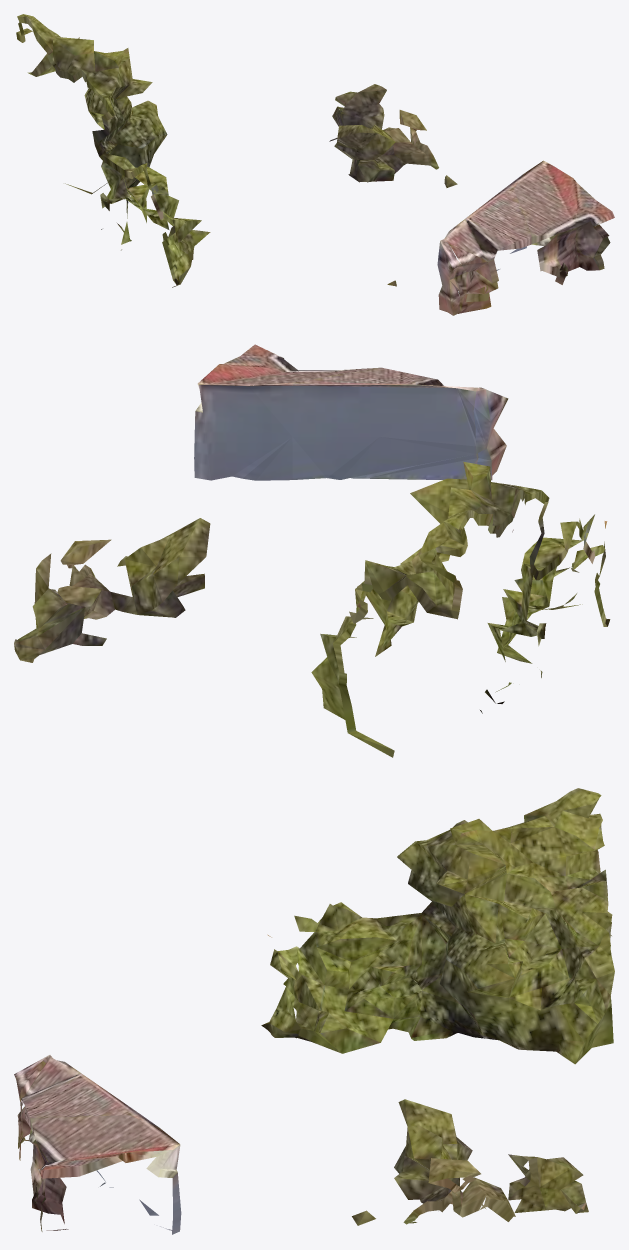
The picture shows the model from 3 angles, top to bottom: view 1: azimuth 30°, elevation 25°; view 2: azimuth 150°, elevation 25°; view 3: azimuth 270°, elevation 25°; orthographic projection. The views are drawn at different scales.
Visible parts, largest first — view 1: Mesh_0; view 2: Mesh_0; view 3: Mesh_0.
Boxes of the visible parts, left/top/right/bottom form: Mesh_0: left=16, top=14, right=614, bottom=315; Mesh_0: left=14, top=344, right=610, bottom=757; Mesh_0: left=14, top=788, right=614, bottom=1234.
Bounding box in the file's own units: 33.62 × 15.98 × 37.49.
1 material, 1 textured.
